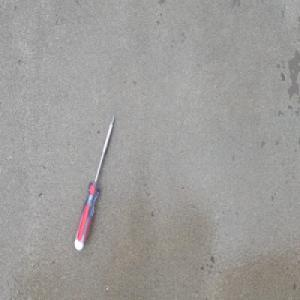Screwdriver: (73, 114, 115, 252)
